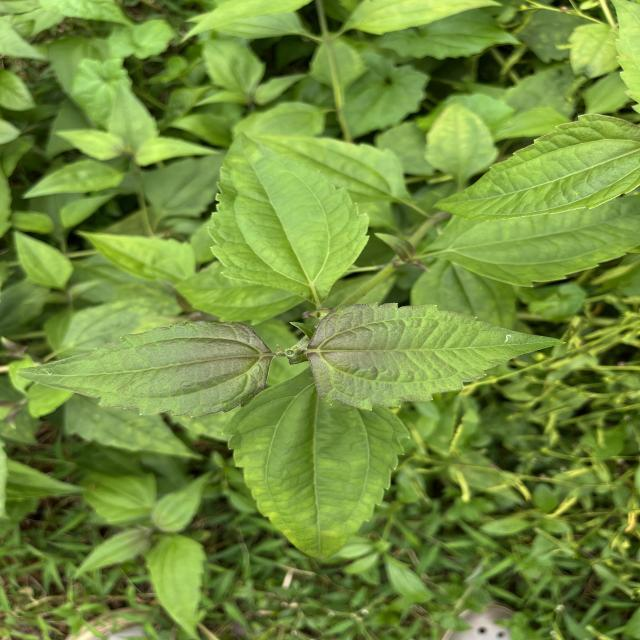Chromolaena odorata: (302, 298, 570, 415), (12, 318, 276, 420)
